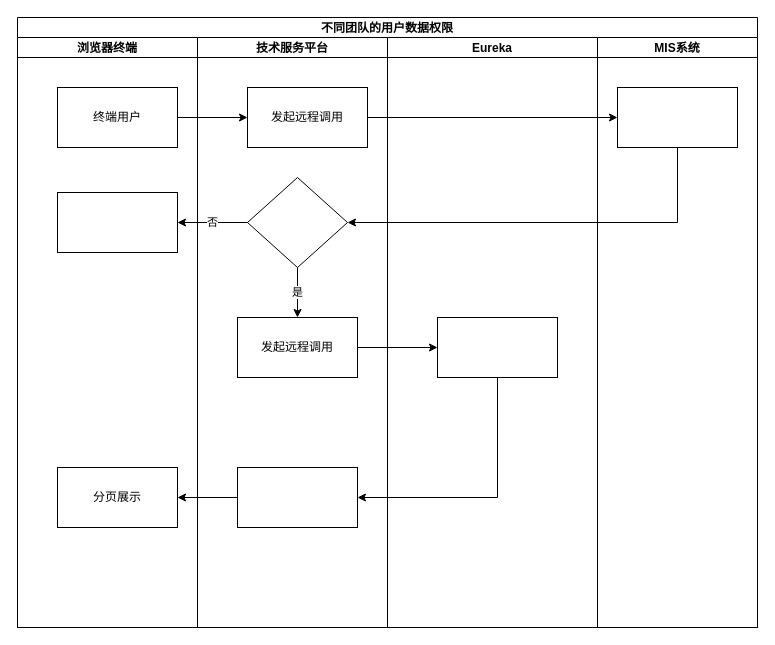
This 775x645 diagram has some shape labels left out. The centre of each missing label's shape, as x and y in pixels:
"提示无权限" goes at (x=117, y=222).
"是否在研发部门的团队列表中" goes at (x=297, y=222).
"服务列表数据" goes at (x=497, y=347).
"根据用户所在团队筛选数据" goes at (x=297, y=497).
"用户所在团队" goes at (x=677, y=117).
